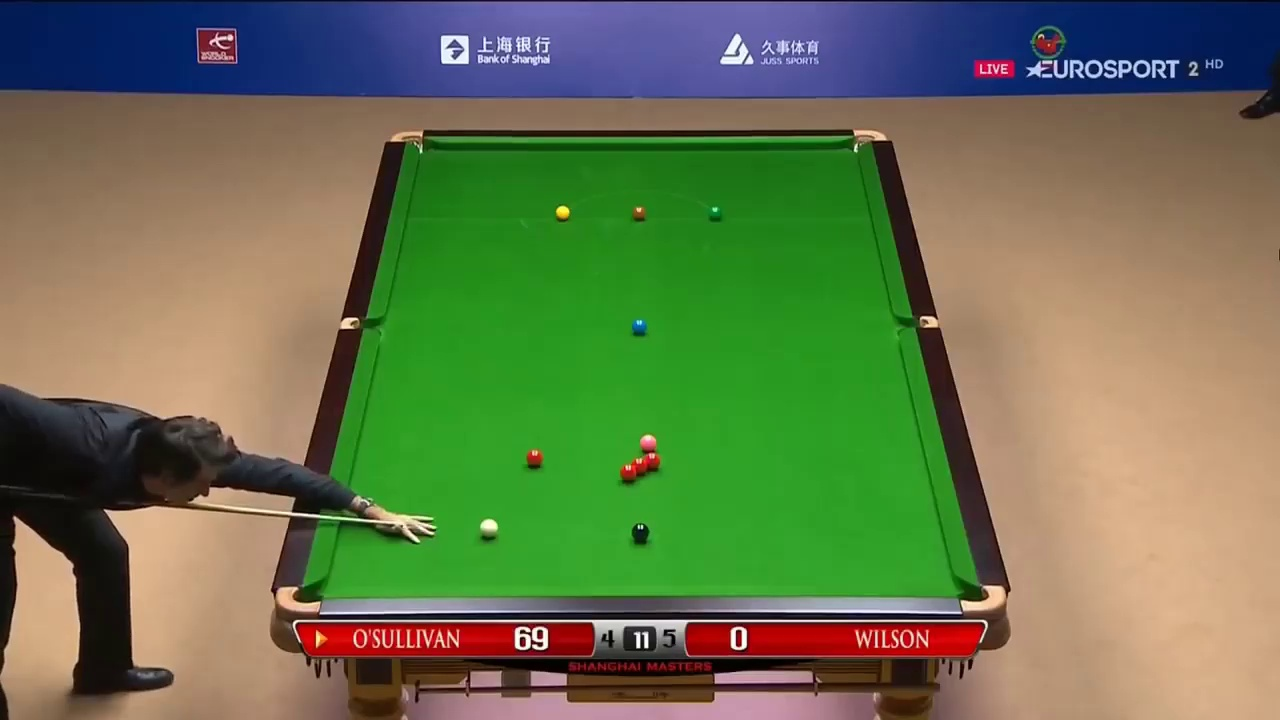ball: (479, 519, 499, 538), (638, 431, 657, 450), (524, 449, 544, 467), (617, 462, 637, 479), (631, 521, 648, 540), (630, 318, 647, 337), (554, 204, 572, 220), (707, 203, 723, 220), (630, 205, 647, 220)
